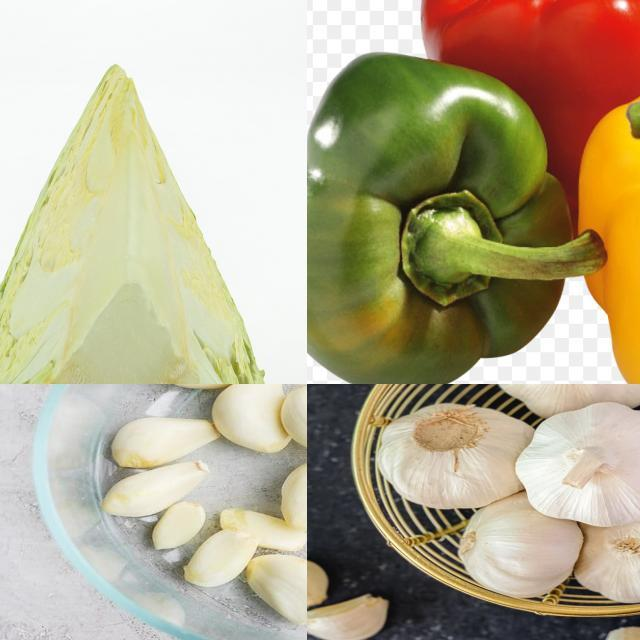bell_pepper: (308, 46, 574, 385), (425, 1, 640, 204)
cabbage: (1, 59, 274, 385)
garlic: (98, 385, 308, 629), (380, 406, 561, 512), (519, 404, 640, 524), (455, 496, 577, 601), (571, 498, 640, 599), (308, 558, 390, 640), (495, 385, 640, 417)
